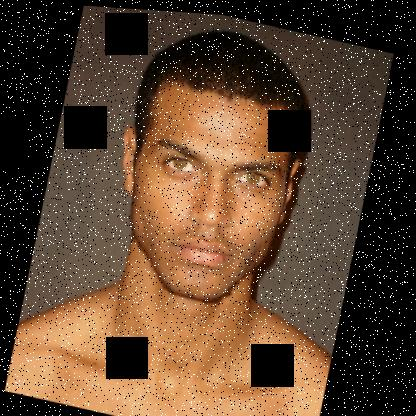Male: (98, 62, 314, 312)
